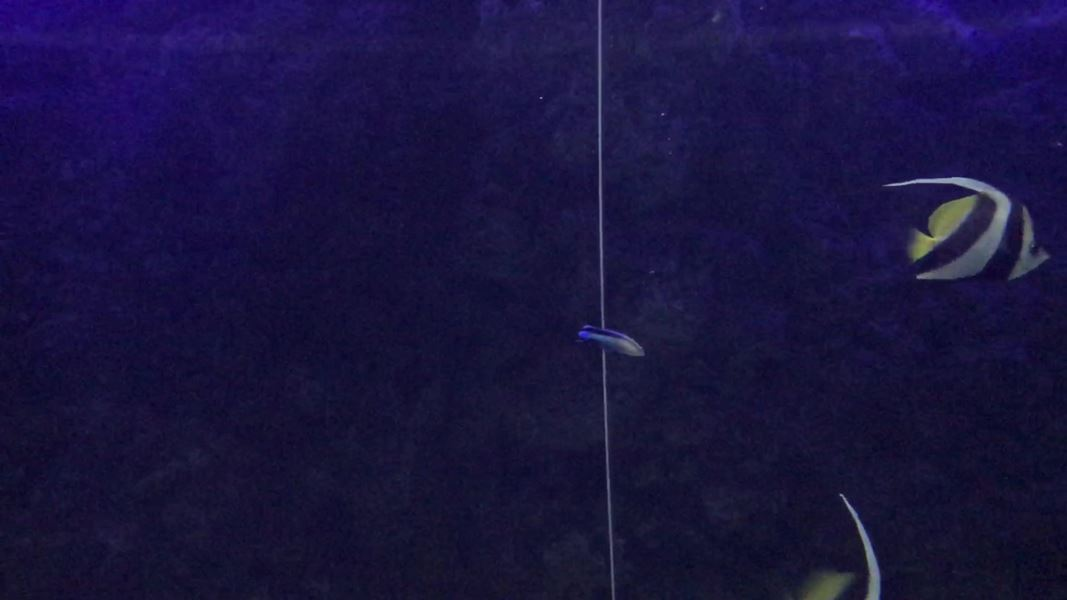Bluesteak cleaner wrasse: (571, 319, 653, 367)
